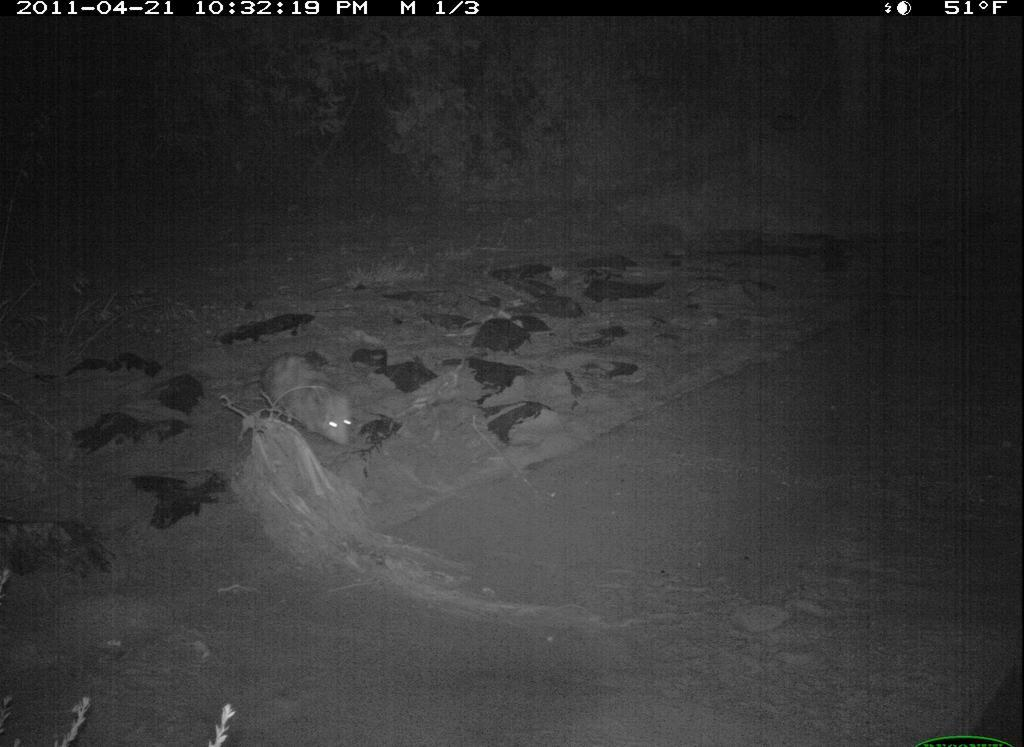opossum: (240, 337, 399, 468)
